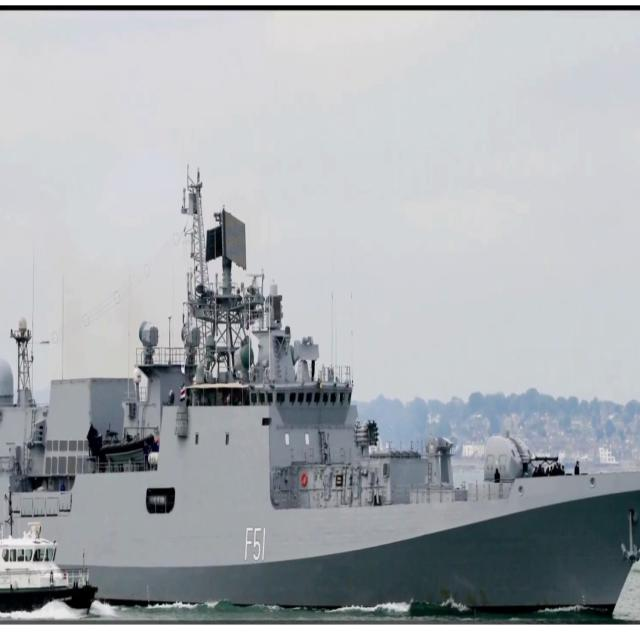OCR: (242, 519, 276, 571)
